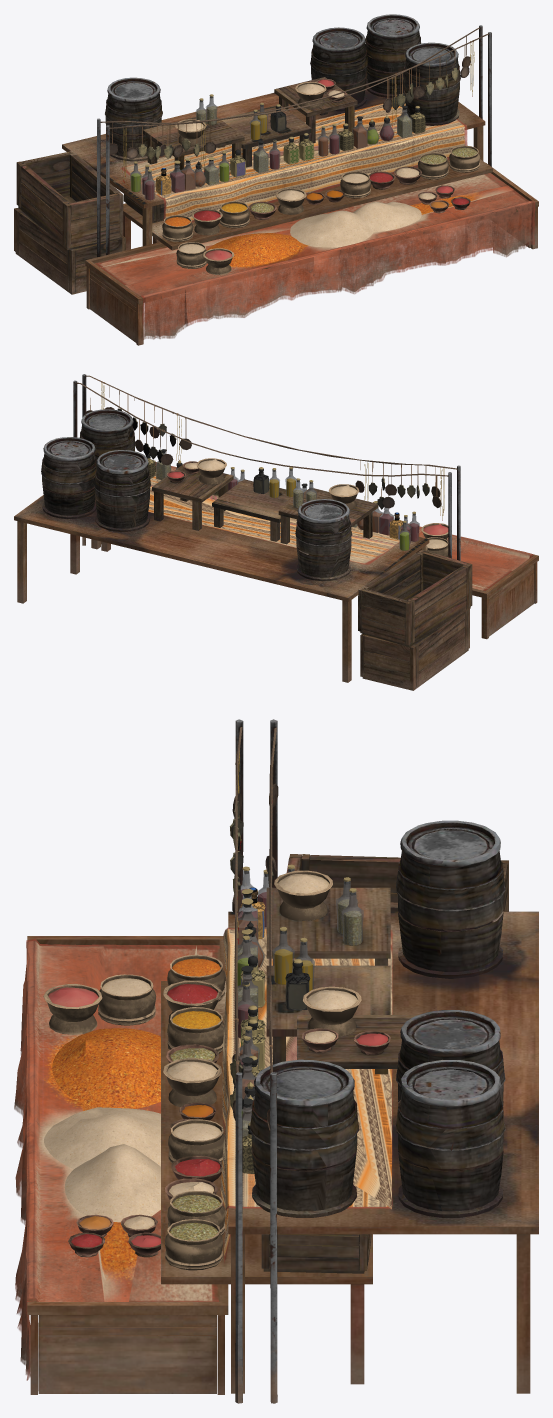
File: xi_dsp_stall.gltf
The picture shows the model from 3 angles, top to bottom: view 1: azimuth 30°, elevation 25°; view 2: azimuth 150°, elevation 25°; view 3: azimuth 270°, elevation 25°; orthographic projection. The views are drawn at different scales.
Visible parts, largest first — view 1: xi_dsp_stall; view 2: xi_dsp_stall; view 3: xi_dsp_stall.
Part boxes in pixels (x1=…): xi_dsp_stall: x1=14, y1=14, x2=538, y2=345; xi_dsp_stall: x1=14, y1=374, x2=538, y2=690; xi_dsp_stall: x1=14, y1=719, x2=538, y2=1403.
Size of the model in its own units: 5.73 by 2.31 by 3.35.
3 materials, 3 textured.
